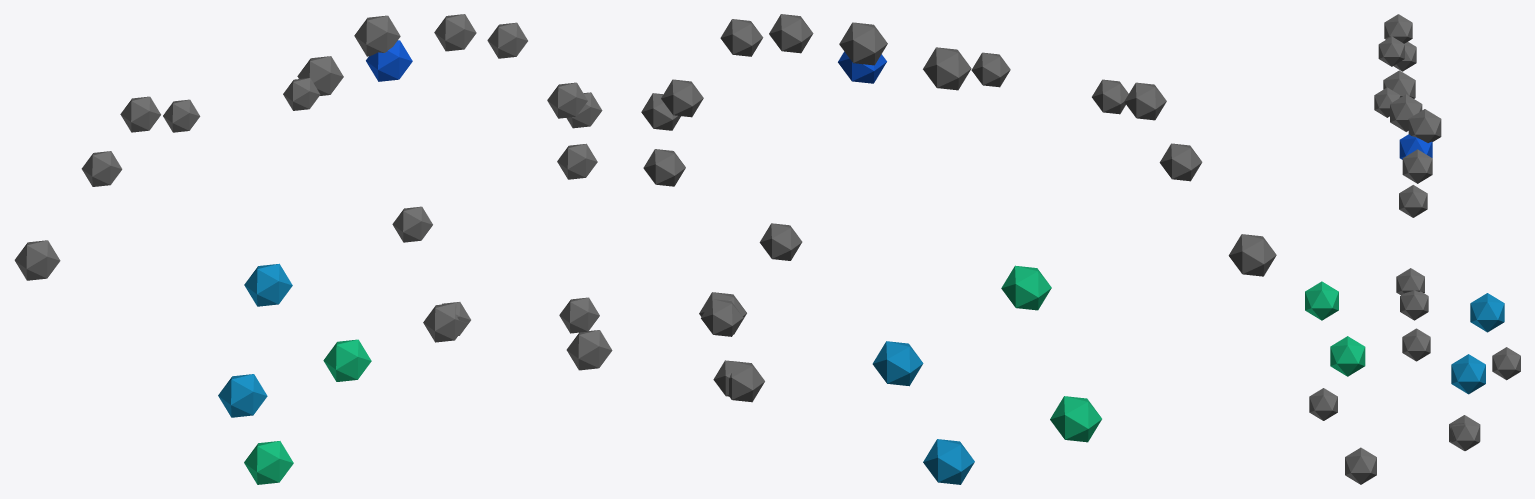
The picture shows the model from 3 angles, left to right: view 1: azimuth 30°, elevation 25°; view 2: azimuth 150°, elevation 25°; view 3: azimuth 270°, elevation 25°; orthographic projection. The views are drawn at different scales.
Visible parts, largest first — view 1: 05_04_01; view 2: 05_04_01; view 3: 05_04_01.
Boxes of the visible parts, x1=… form: 05_04_01: x1=14, y1=14, x2=612, y2=484; 05_04_01: x1=641, y1=14, x2=1276, y2=484; 05_04_01: x1=1305, y1=14, x2=1520, y2=484.
Size of the model in its own units: 0.6522 by 0.4168 by 0.2537.
